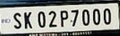character: (12, 12, 22, 30), (48, 9, 57, 28), (36, 11, 46, 28), (24, 11, 33, 29), (59, 10, 68, 28), (70, 9, 79, 27), (92, 8, 101, 26), (103, 8, 112, 25), (82, 9, 90, 26)
